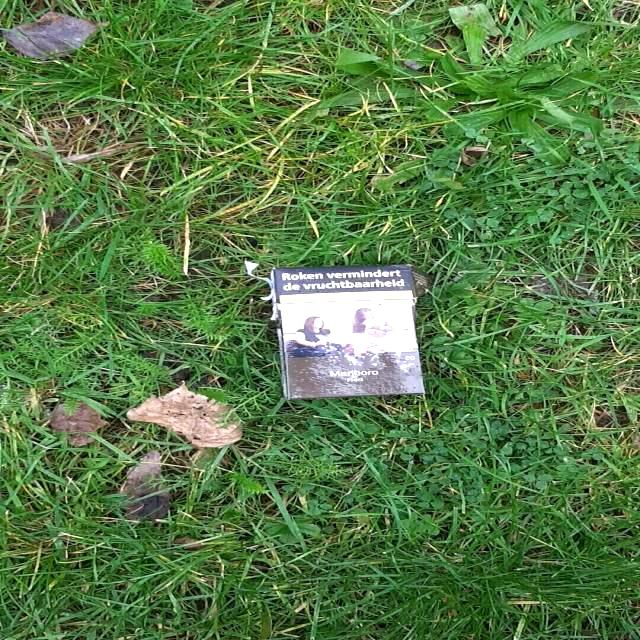Paper: (243, 260, 429, 400)
